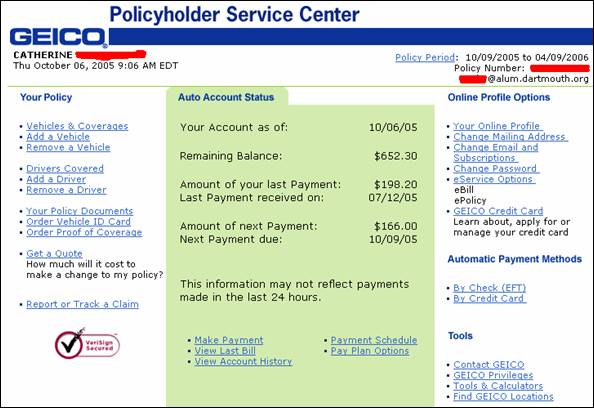Geico: (9, 26, 112, 48)
